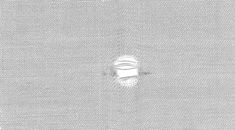Hole: (104, 37, 155, 94)
